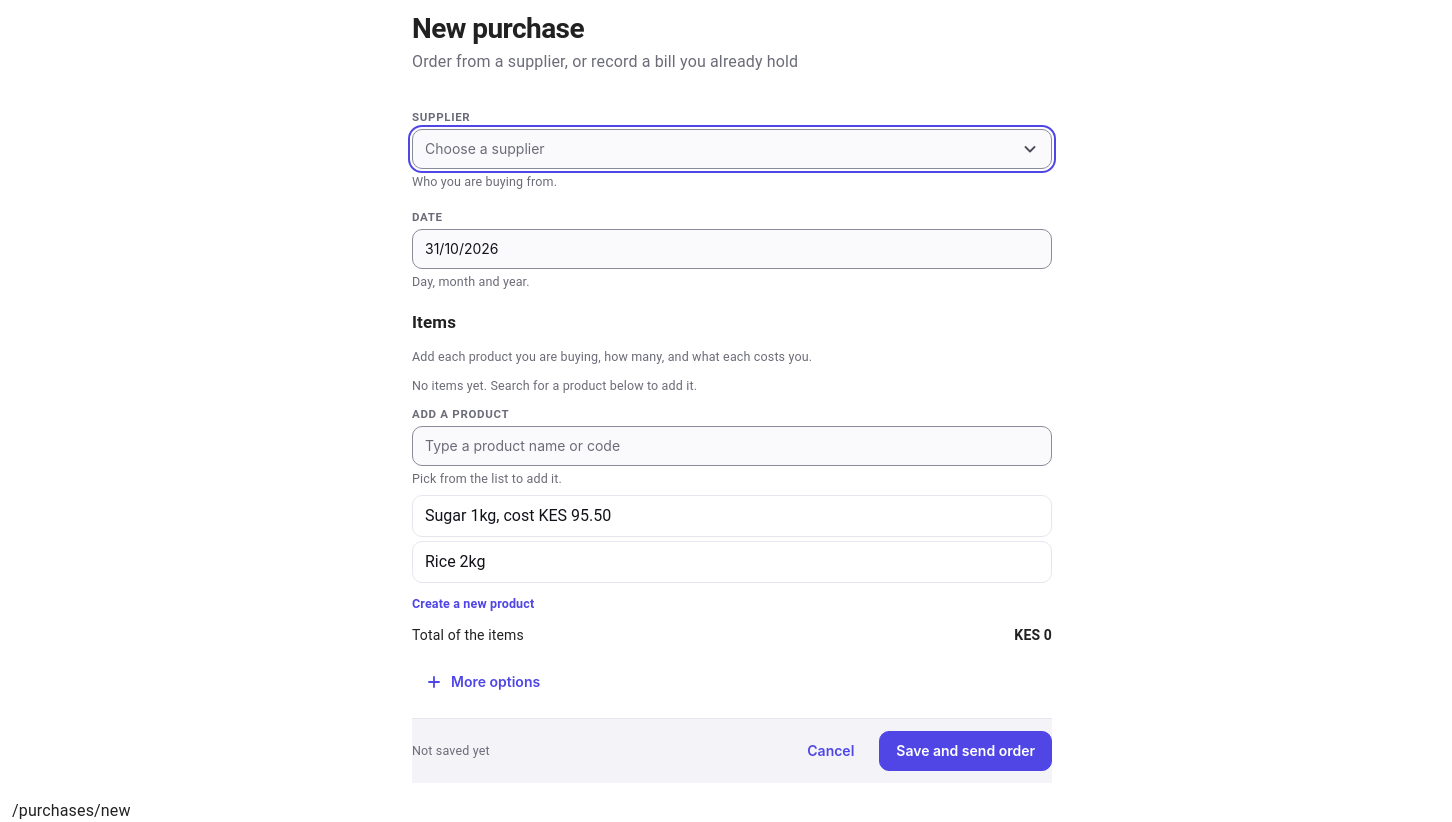
Test: the items › picking a product adds a line with quantity 1 and the cost on record
Check: the dropdown labelled "Choose a supplier" is shown, box x1=412 y1=128 x2=1052 y2=168
Click the button "Sugar 1kg, cost KES 95.50" at [518, 516], box x1=412 y1=495 x2=1052 y2=537
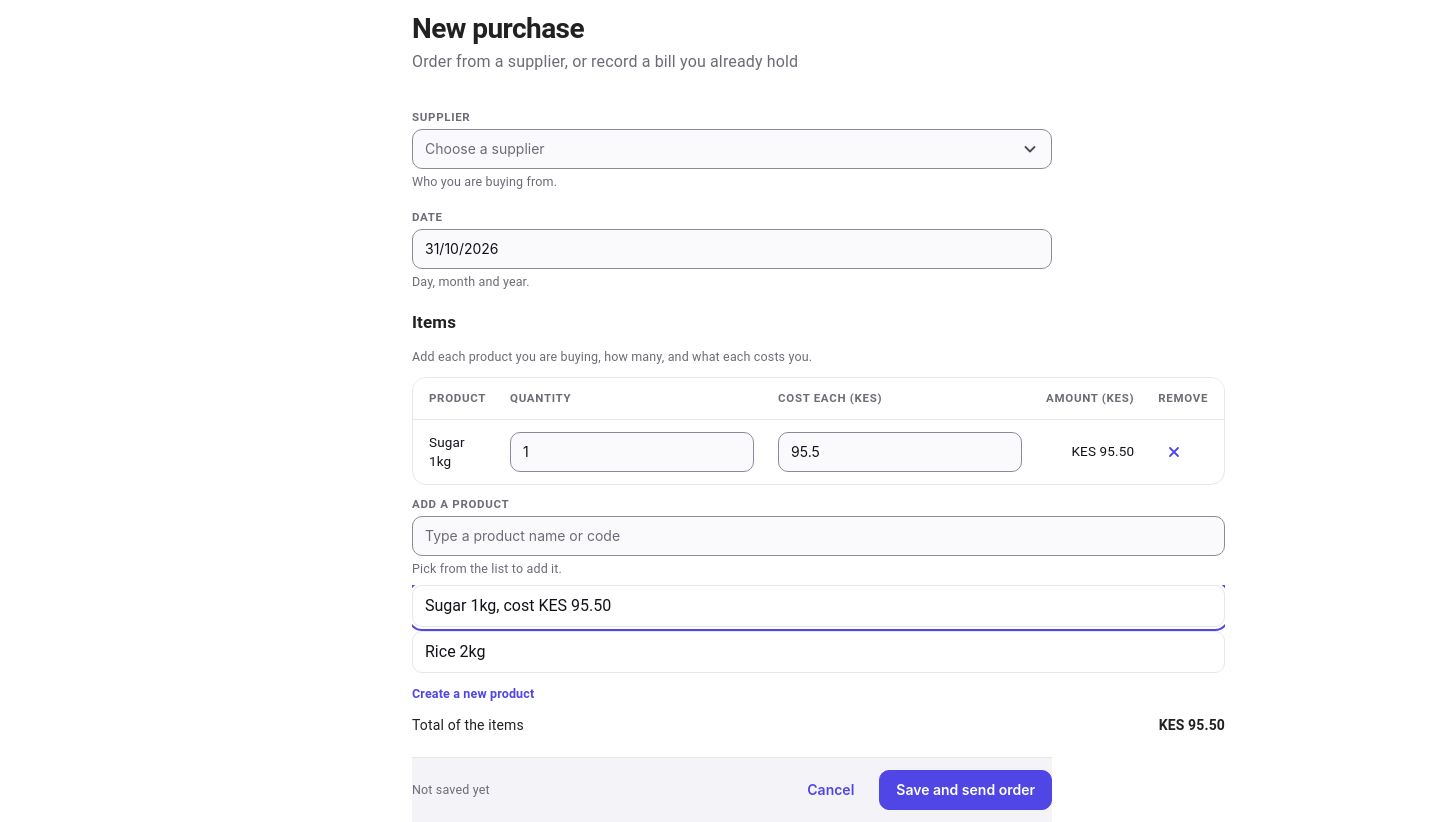
Check: the 1st field named "Quantity of Sugar 1kg" holds "1", box x1=511 y1=433 x2=753 y2=471
Check: the 2nd field named "Cost each of Sugar 1kg (KES)" holds "95.5", box x1=779 y1=433 x2=1021 y2=471
